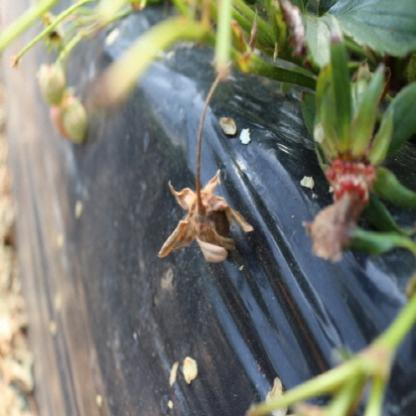Strawberry_Gray_Mold: (157, 168, 254, 264), (302, 148, 378, 262)
